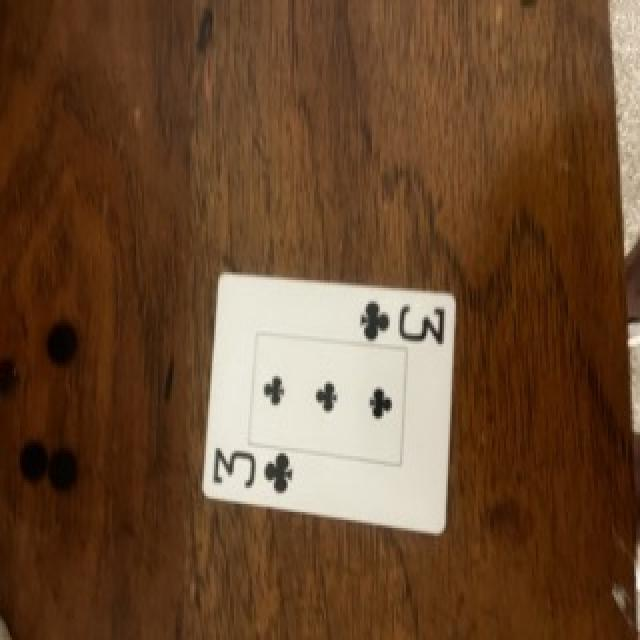3 of clubs: (202, 273, 455, 533)
